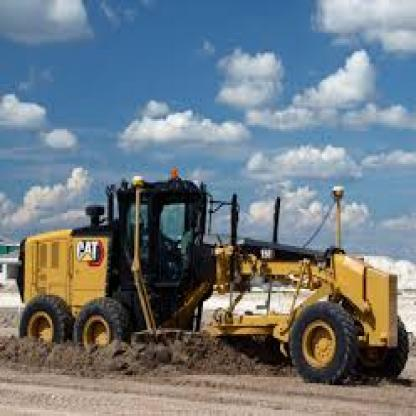bull_dozer/loader/grader: (15, 156, 398, 389)
